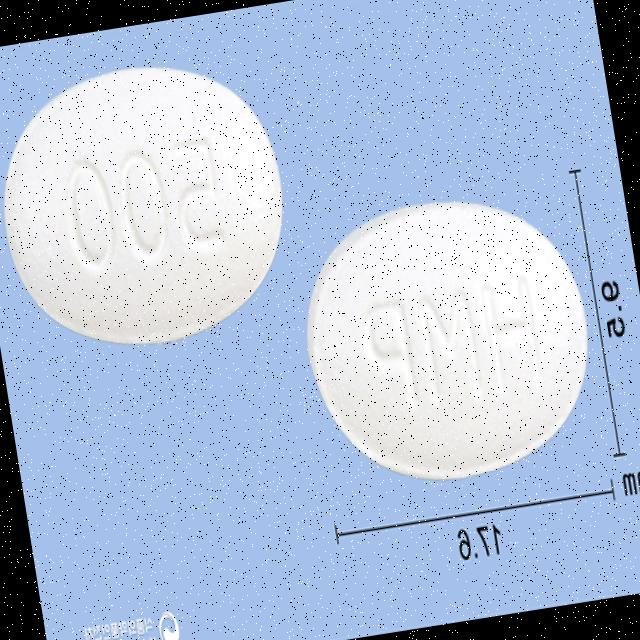Amoclan Duo Tab- Myungmoon: (284, 178, 611, 506), (0, 47, 303, 367)
